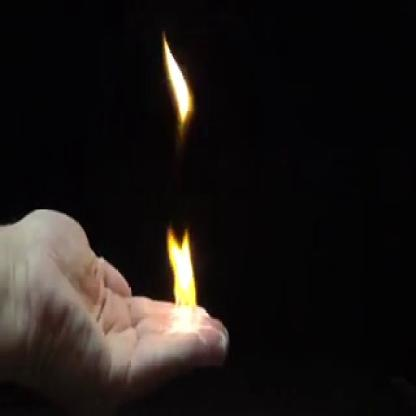fire: (162, 220, 202, 336)
